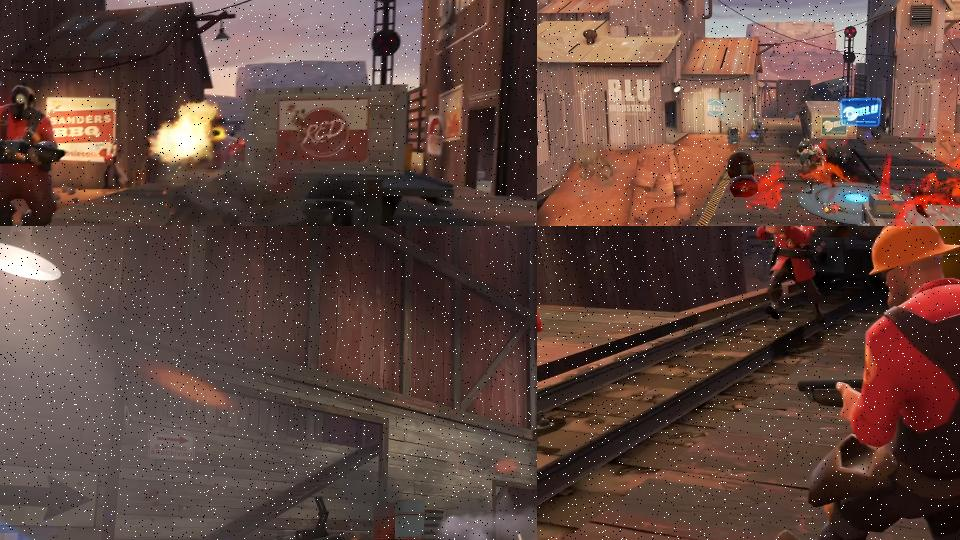Enemy: (768, 226, 960, 540), (0, 84, 64, 226), (755, 226, 828, 325), (100, 137, 129, 189), (807, 154, 837, 194), (800, 141, 827, 163), (797, 138, 811, 171)
